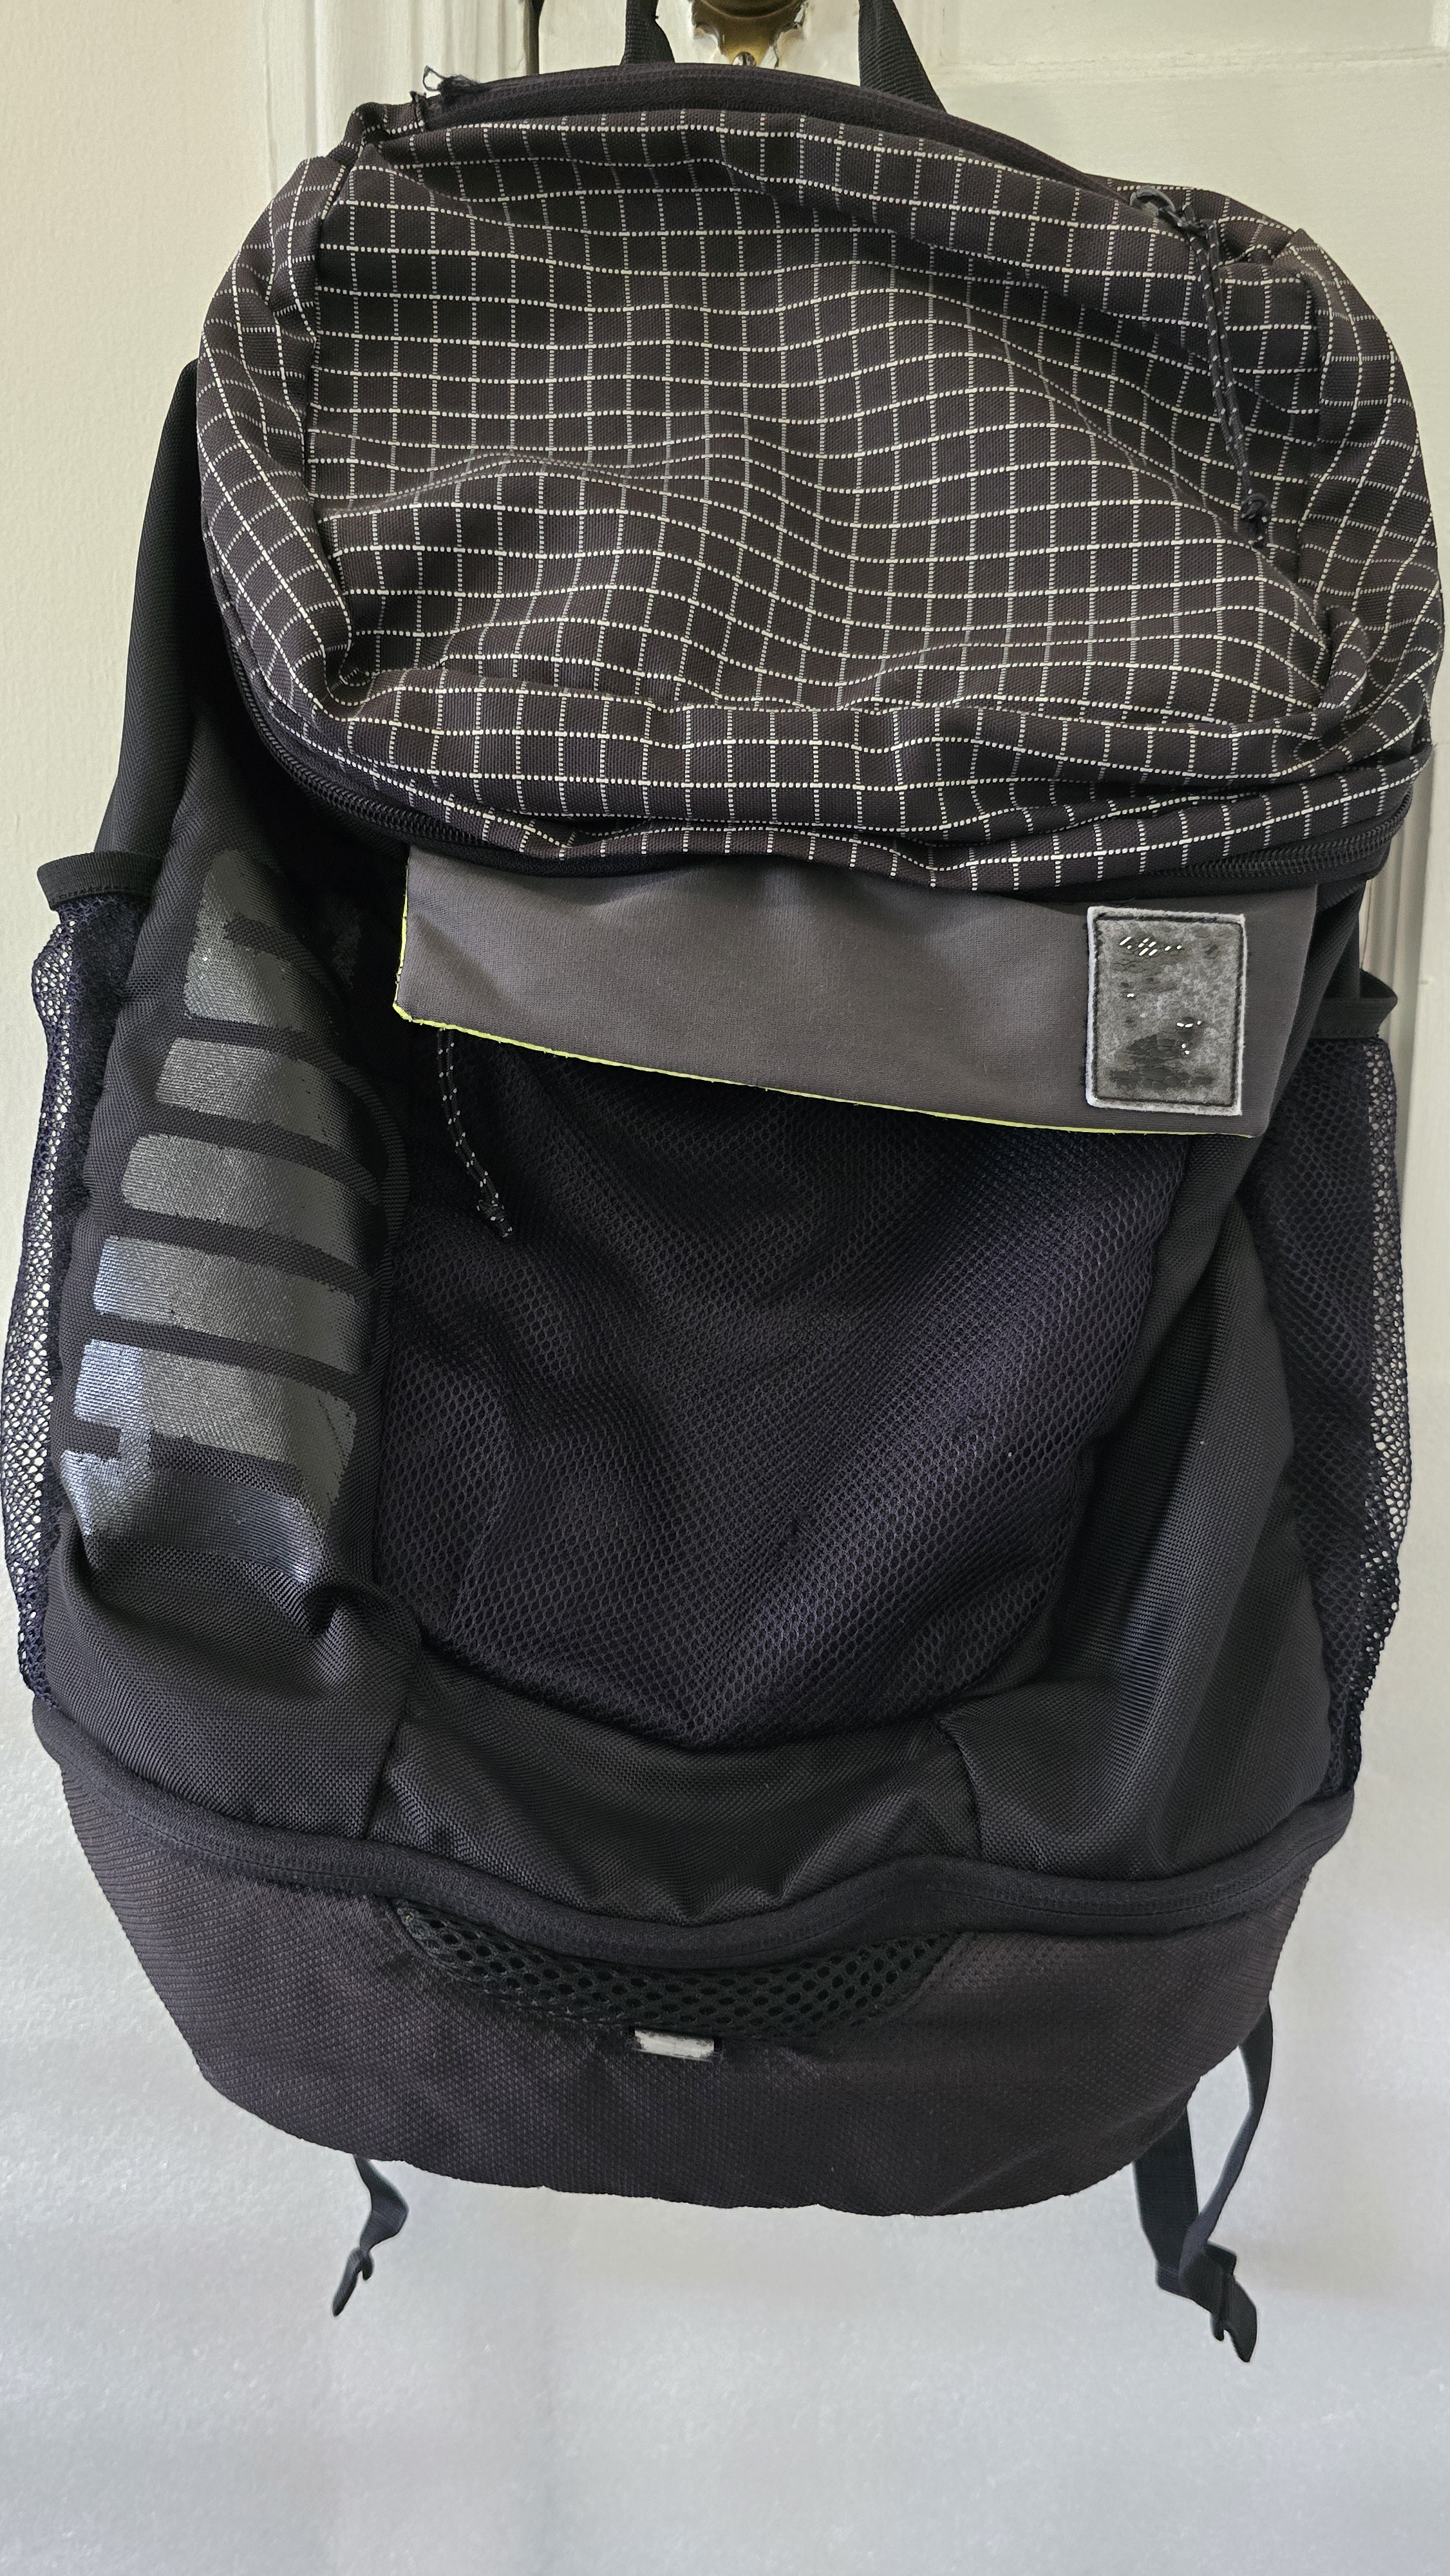bag: (39, 11, 1450, 2273)
